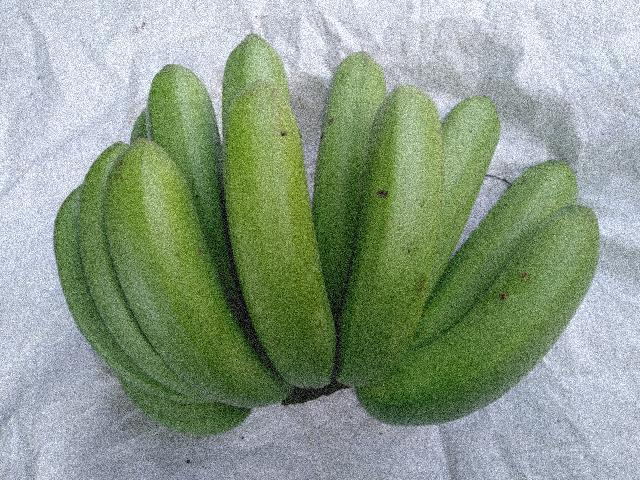freshunripe: (217, 70, 361, 452), (376, 204, 603, 435), (114, 139, 267, 453), (324, 80, 449, 395), (137, 52, 217, 185)
